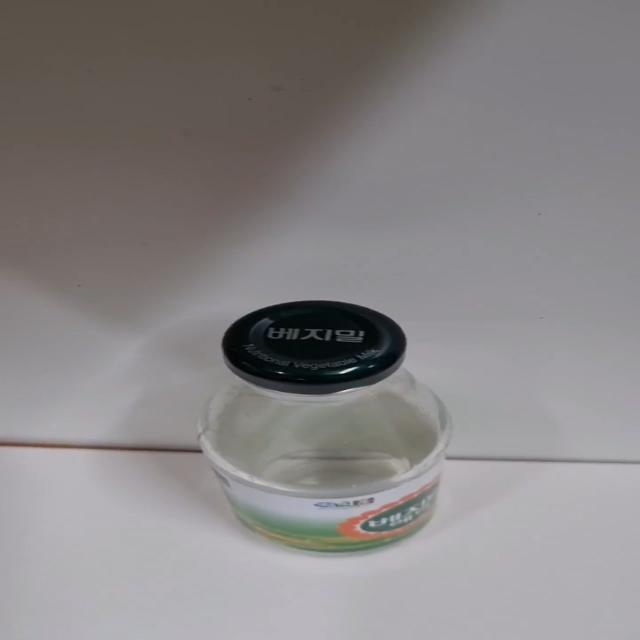Glass: (198, 302, 454, 556)
